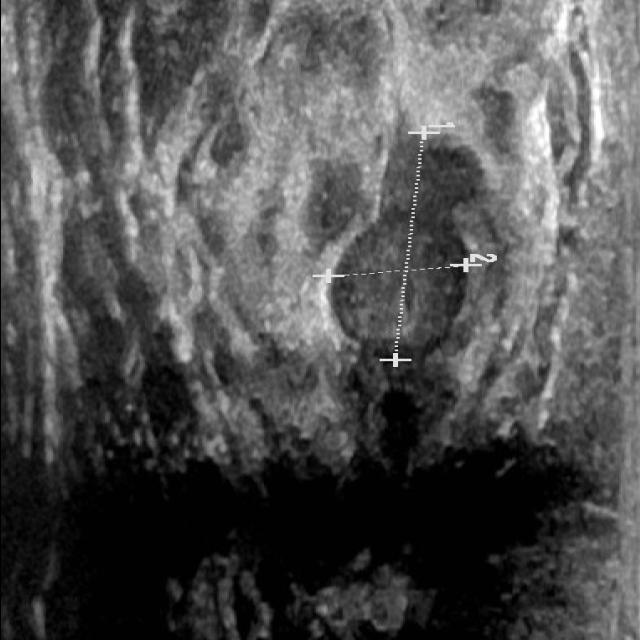Benign: (322, 208, 494, 364)
